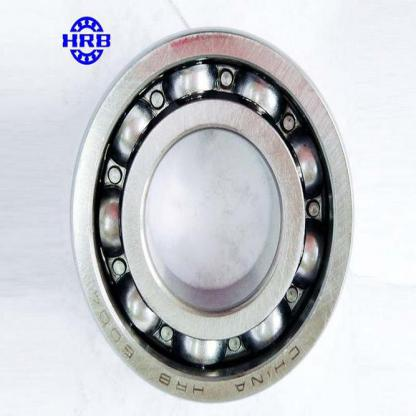FOD: (67, 21, 357, 407)
